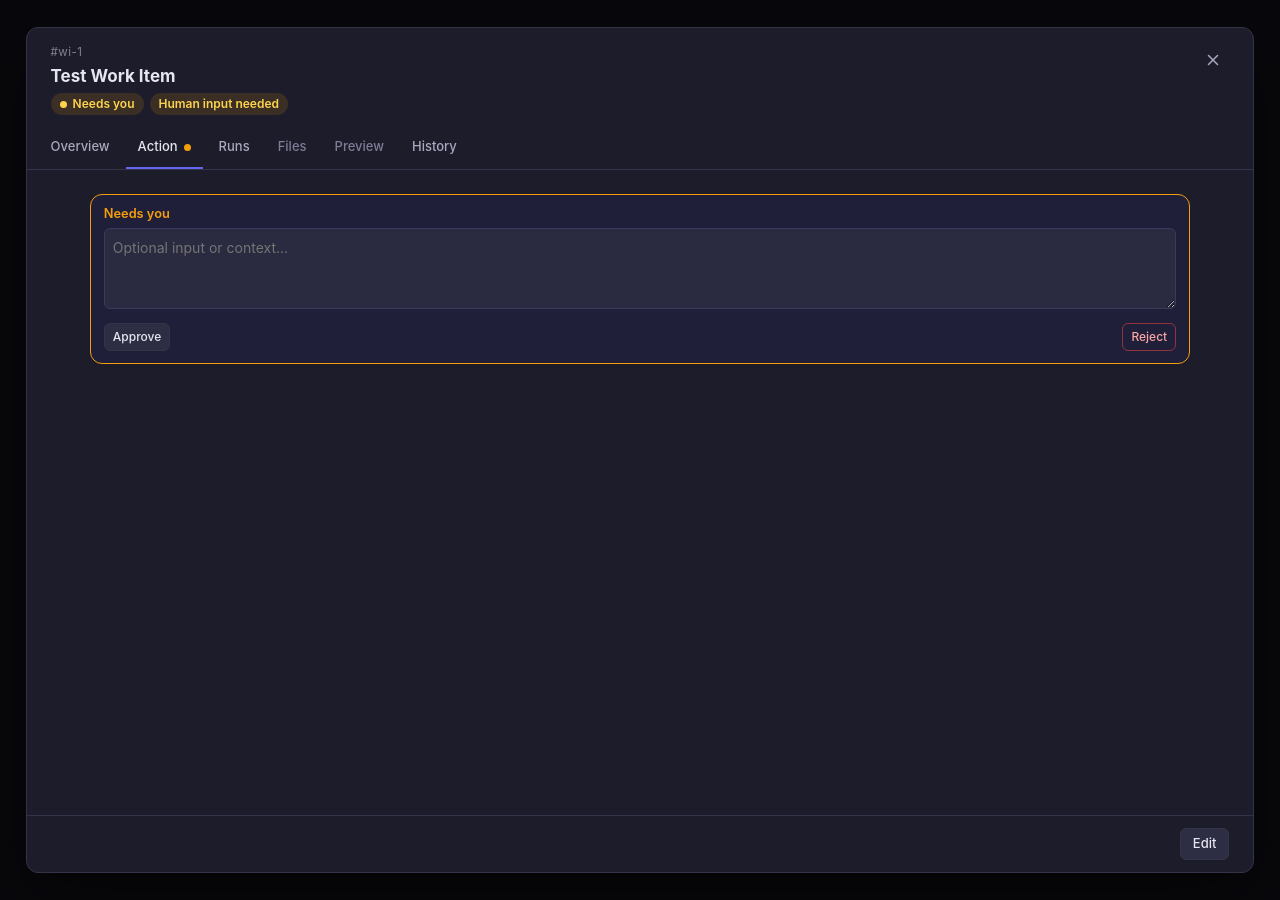
Scenario: an answer sent after the run has moved on › Dismiss removes the notice and its text
Expected: the button "Approve" is shown, [104,323,170,351]
Type "Please also fix the flaky test" into the text box with placeholder "Optional input or context...". click: (640, 268)
box: [104,228,1176,309]
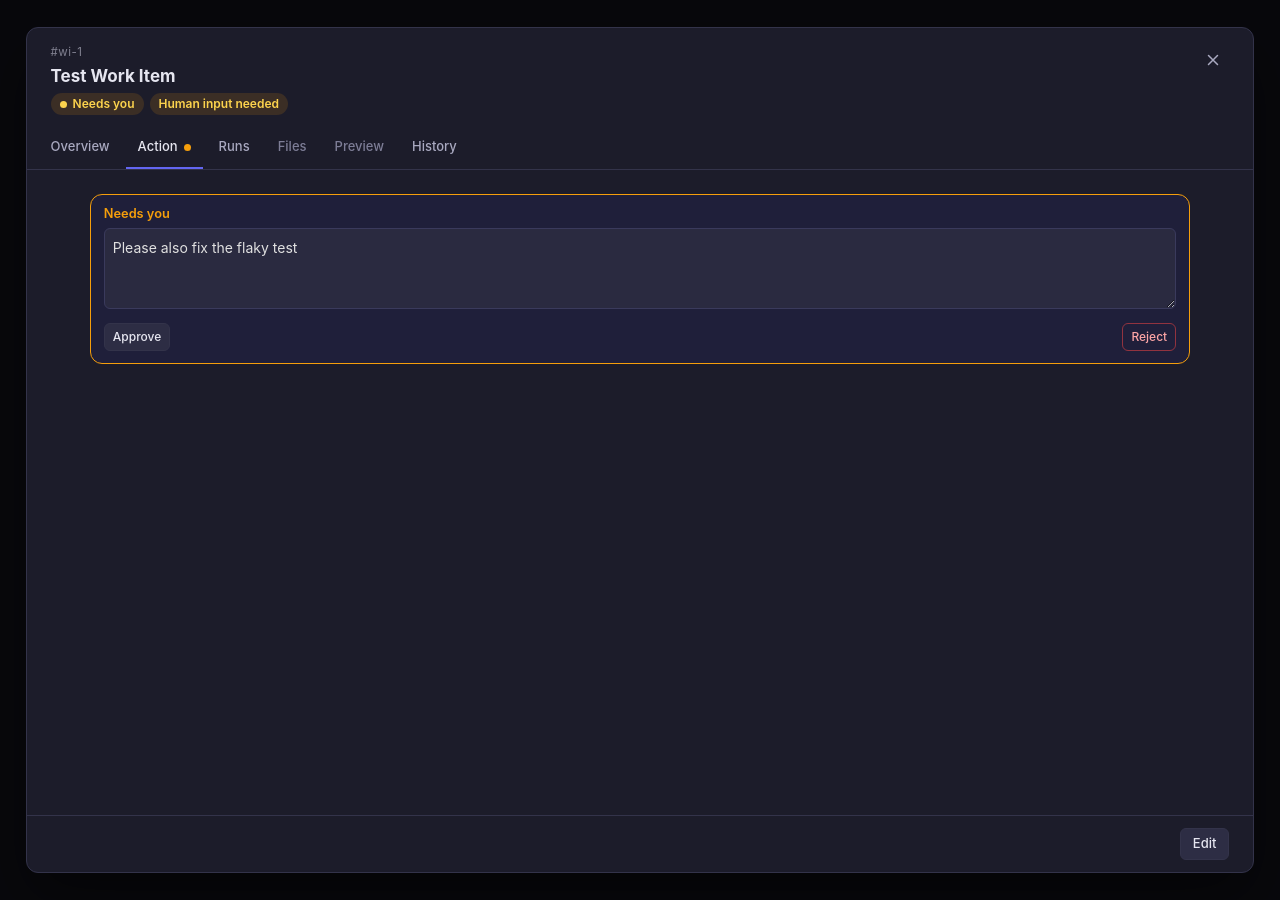
Click the button "Approve". click: (137, 337)
box: [104,323,170,351]
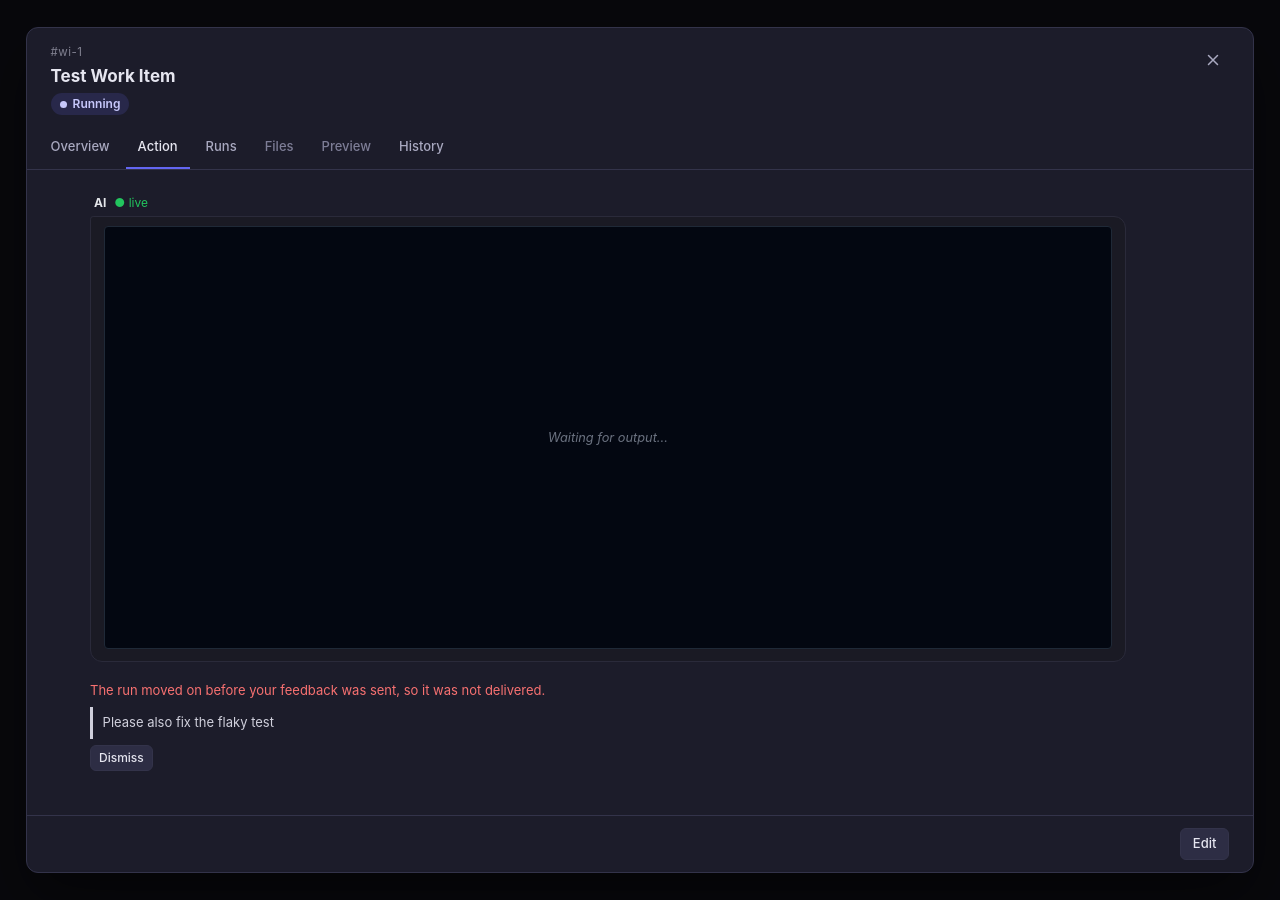
Expected: the text "moved on" is shown, [90,682,545,698]
Click the button "Dismiss". click: (121, 758)
box: [90,745,153,771]
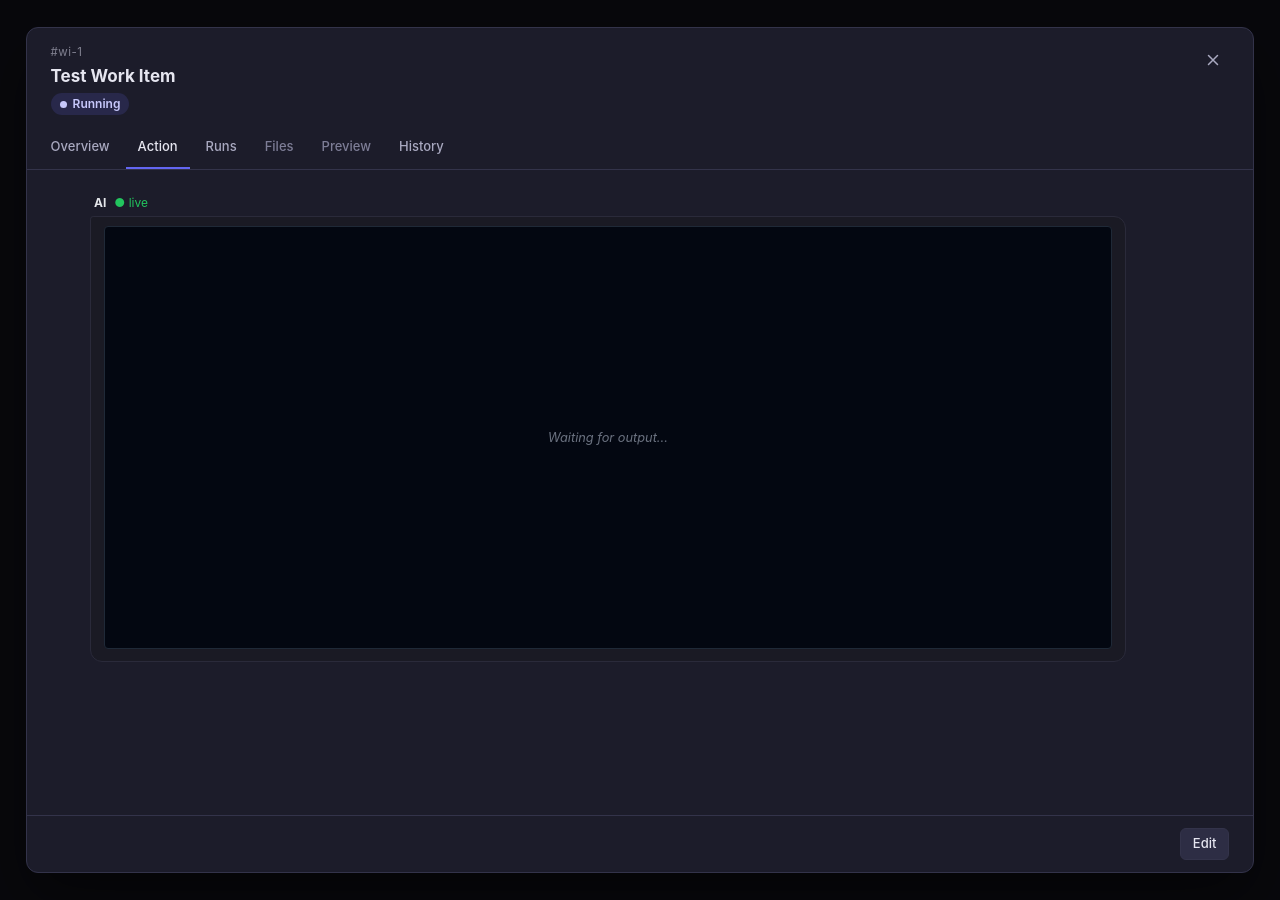
Expected: the text "moved on" is gone
Expected: the text "Please also fix the flaky test" is gone
